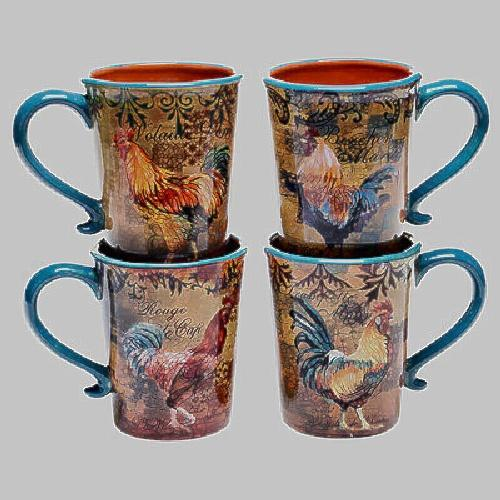mug: (20, 235, 244, 442), (264, 57, 497, 253), (28, 54, 249, 253), (279, 238, 459, 439)
